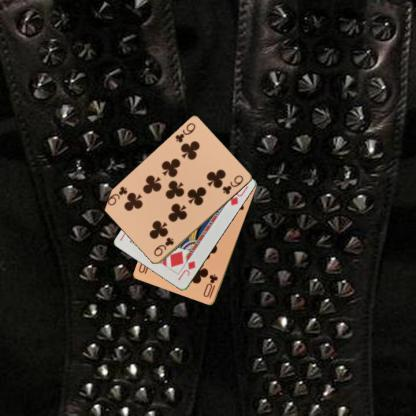10c: (201, 271, 219, 300)
9c: (150, 234, 176, 258), (172, 121, 196, 144)
Jd: (175, 258, 197, 282)
